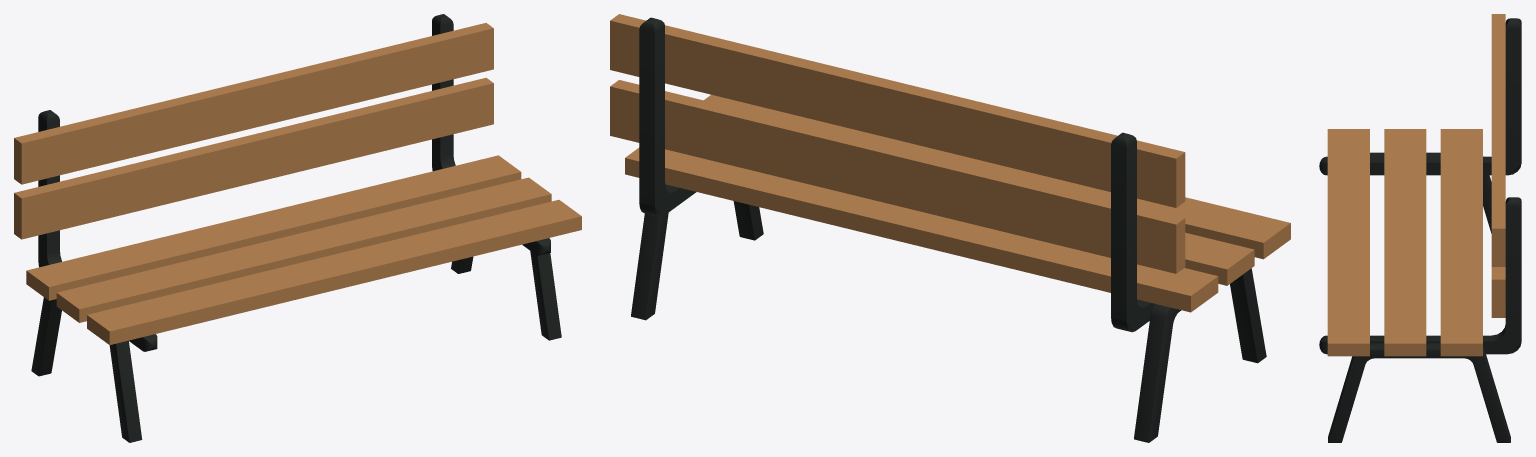
Rendered from bench.fbx.
3 renders of one model, left to right at view 1: azimuth 30°, elevation 25°; view 2: azimuth 150°, elevation 25°; view 3: azimuth 270°, elevation 25°, orthographic. The views are drawn at different scales.
Parts seen in each view (by area): view 1: Cube.004, Cube.005, Cube, Cube.003, Cube.002, Cube.006, Cube.001; view 2: Cube.005, Cube.004, Cube.003, Cube.001, Cube.006, Cube, Cube.002; view 3: Cube, Cube.002, Cube.003, Cube.001, Cube.006, Cube.005, Cube.004.
Boxes of the visible parts, x1,y1,x2,y2 form: Cube.004: [14, 77, 493, 239]; Cube.005: [14, 23, 493, 184]; Cube: [87, 200, 581, 344]; Cube.003: [26, 155, 521, 300]; Cube.002: [56, 177, 551, 322]; Cube.006: [31, 251, 561, 442]; Cube.001: [38, 14, 550, 351]; Cube.005: [610, 14, 1185, 207]; Cube.004: [610, 80, 1185, 273]; Cube.003: [625, 147, 1218, 312]; Cube.001: [639, 17, 1154, 332]; Cube.006: [631, 201, 1266, 442]; Cube: [704, 94, 1290, 259]; Cube.002: [1185, 232, 1254, 285]; Cube: [1327, 129, 1369, 356]; Cube.002: [1384, 129, 1426, 356]; Cube.003: [1440, 129, 1482, 356]; Cube.001: [1319, 18, 1521, 354]; Cube.006: [1328, 152, 1510, 442]; Cube.005: [1491, 14, 1505, 266]; Cube.004: [1491, 267, 1505, 317].
Bounding box in the file's own units: 720 × 370 × 287.
